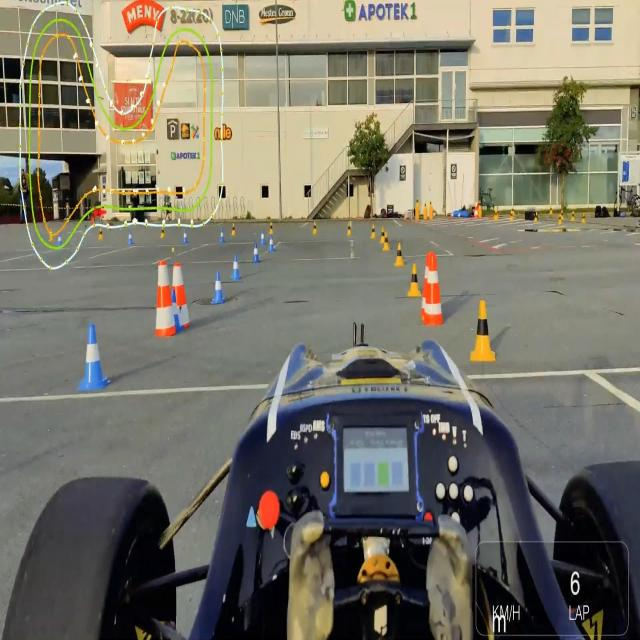blue_cone: (75, 317, 113, 398), (169, 287, 183, 334), (211, 270, 228, 304), (230, 252, 244, 282), (252, 241, 262, 264), (258, 228, 266, 245), (219, 226, 226, 244), (268, 234, 274, 253), (128, 230, 134, 247), (182, 229, 188, 245)
large_orange_cone: (152, 256, 178, 338), (424, 248, 444, 328), (172, 253, 190, 330), (418, 251, 437, 320), (474, 200, 479, 220)
yellow_cone: (466, 295, 499, 367), (408, 260, 422, 300), (394, 241, 406, 269), (382, 232, 391, 251), (346, 222, 354, 237), (379, 227, 386, 244), (369, 224, 376, 241), (230, 222, 237, 237), (268, 221, 274, 235), (160, 225, 166, 239), (312, 222, 317, 235)
